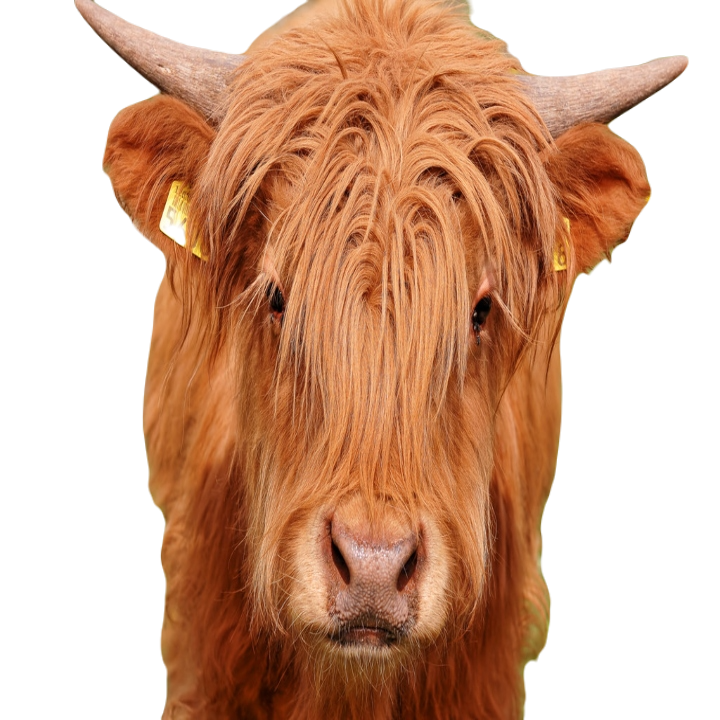Cow: (67, 2, 685, 715)
